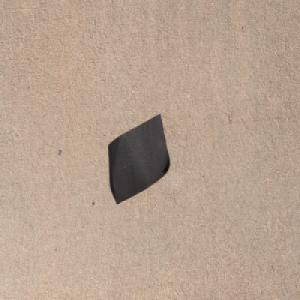PaintChip: (107, 112, 171, 205)
